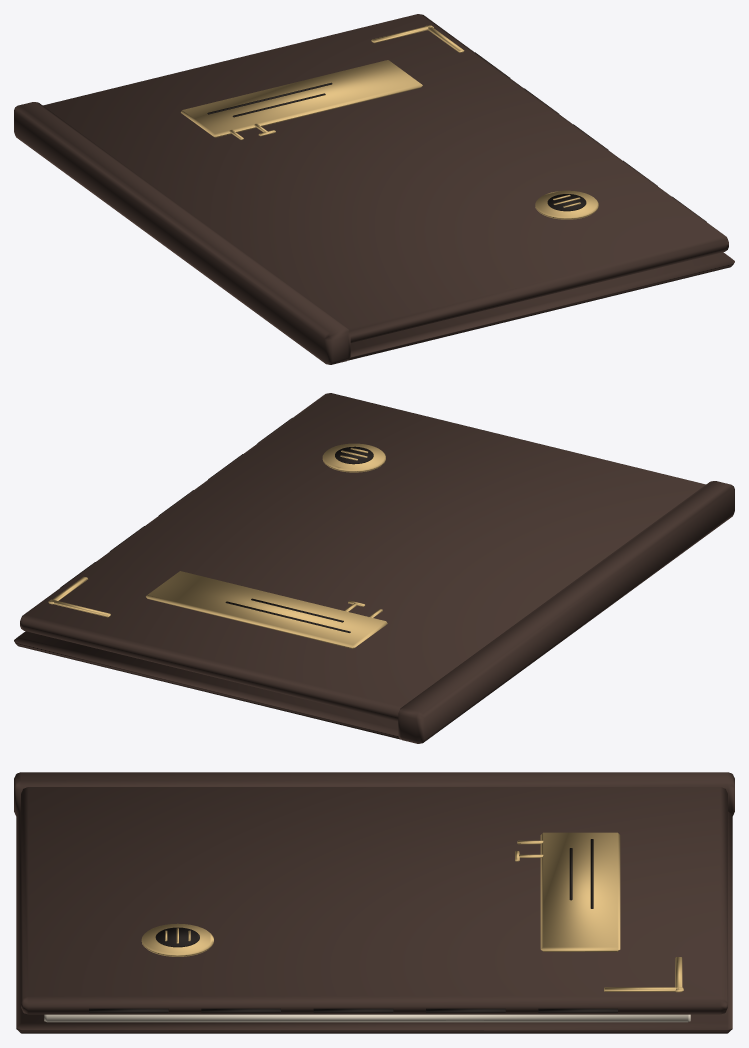
The model's file is workshop-dossier.desktop.glb.
The picture shows the model from 3 angles, top to bottom: view 1: azimuth 30°, elevation 25°; view 2: azimuth 150°, elevation 25°; view 3: azimuth 270°, elevation 25°; orthographic projection. The views are drawn at different scales.
Visible parts, largest first — view 1: MITHAQ_Workshop_Dossier_Desktop_Cover, MITHAQ_Workshop_Dossier_Desktop_Brass_Details; view 2: MITHAQ_Workshop_Dossier_Desktop_Cover, MITHAQ_Workshop_Dossier_Desktop_Brass_Details; view 3: MITHAQ_Workshop_Dossier_Desktop_Cover, MITHAQ_Workshop_Dossier_Desktop_Brass_Details, MITHAQ_Workshop_Dossier_Desktop_Paper_Stack.
Part boxes in pixels (x1,y1,x2,y2): MITHAQ_Workshop_Dossier_Desktop_Cover: (14, 14, 734, 364); MITHAQ_Workshop_Dossier_Desktop_Brass_Details: (181, 60, 598, 219); MITHAQ_Workshop_Dossier_Desktop_Cover: (14, 393, 734, 743); MITHAQ_Workshop_Dossier_Desktop_Brass_Details: (146, 443, 387, 648); MITHAQ_Workshop_Dossier_Desktop_Cover: (14, 772, 734, 1033); MITHAQ_Workshop_Dossier_Desktop_Brass_Details: (141, 832, 620, 956); MITHAQ_Workshop_Dossier_Desktop_Paper_Stack: (44, 1008, 690, 1022).
Size of the model in its own units: 2.32 by 0.213 by 3.08.
